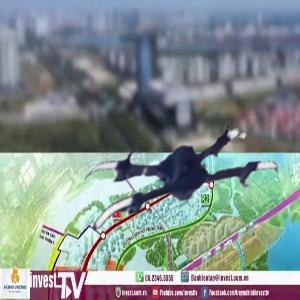drone: (87, 99, 278, 290)
